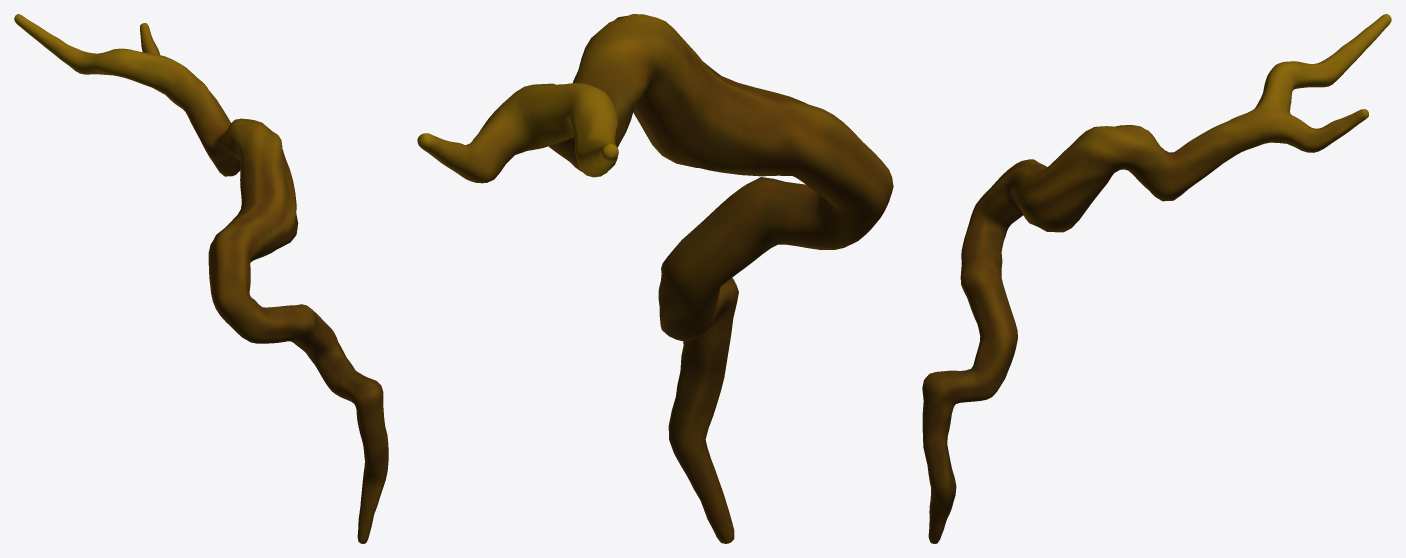
File: SM_Root_4_Trunk.fbx
3 views of the same model, side by side, from view 1: azimuth 30°, elevation 25°; view 2: azimuth 150°, elevation 25°; view 3: azimuth 270°, elevation 25° (orthographic). The views are drawn at different scales.
Visible parts, largest first — view 1: SM_Root_4_Trunk_LOD0; view 2: SM_Root_4_Trunk_LOD0; view 3: SM_Root_4_Trunk_LOD0.
Part boxes in pixels (box(x1,y1,x2,y2)): SM_Root_4_Trunk_LOD0: box(14, 14, 388, 543); SM_Root_4_Trunk_LOD0: box(417, 14, 893, 543); SM_Root_4_Trunk_LOD0: box(922, 14, 1391, 543).
Size of the model in its own units: 188 by 409 by 437.
Materials: 1 (1 with a texture image).
